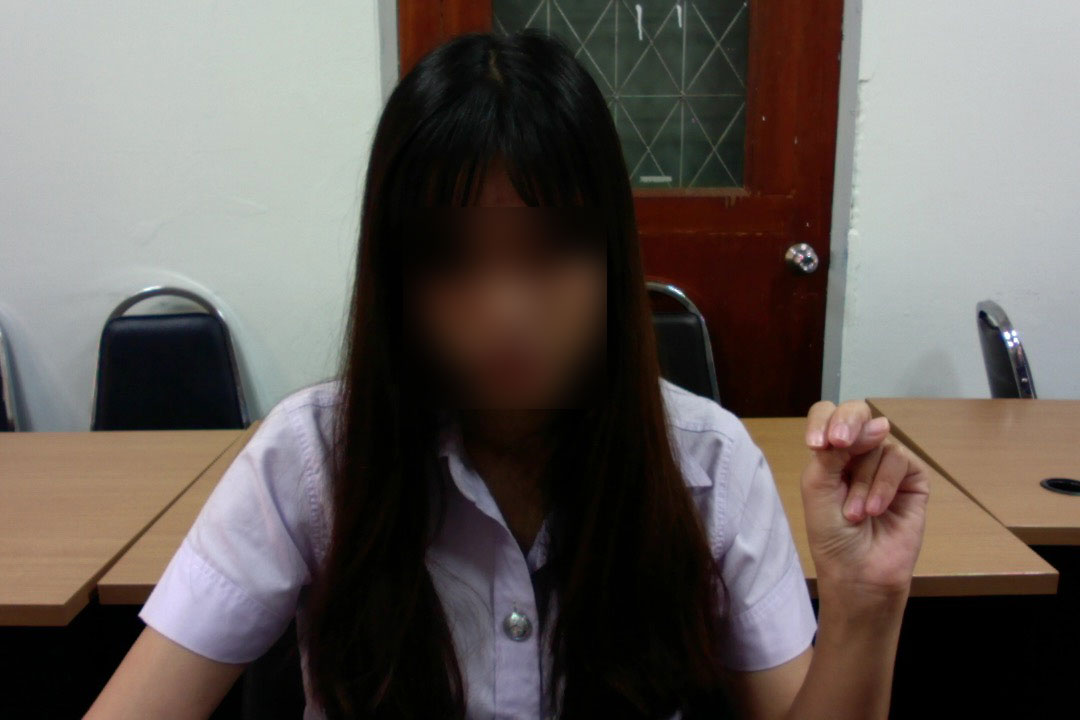nor: (792, 392, 933, 618)
